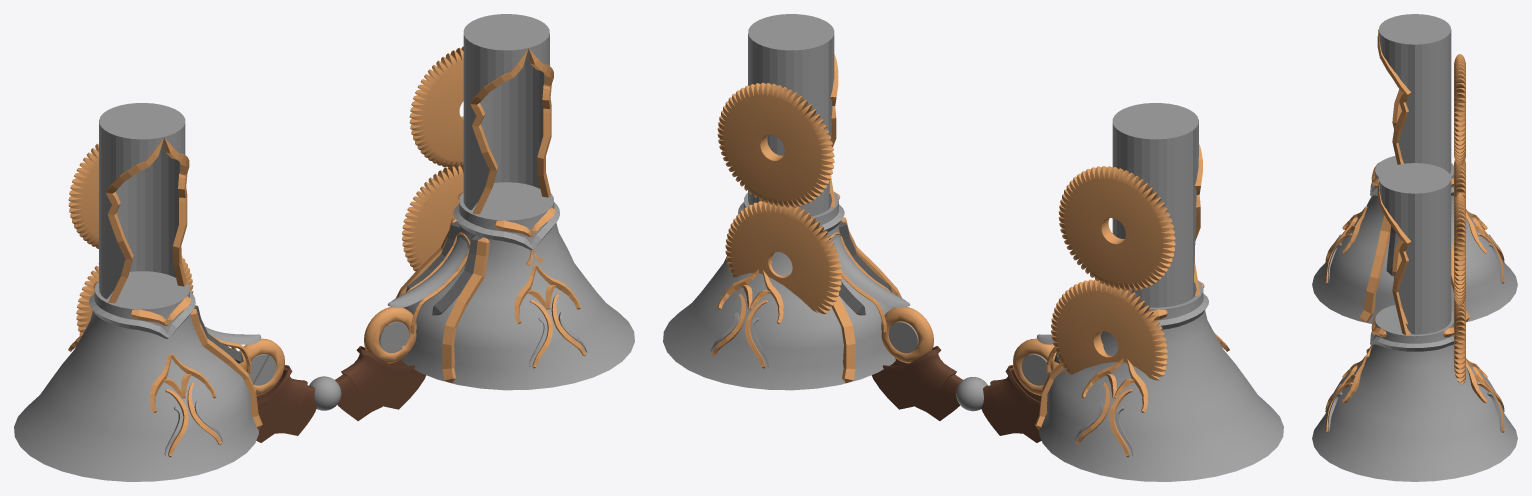
The model's file is cogwork_dancers_environment.glb.
3 views of the same model, side by side, from view 1: azimuth 30°, elevation 25°; view 2: azimuth 150°, elevation 25°; view 3: azimuth 270°, elevation 25° (orthographic). The views are drawn at different scales.
Visible parts, largest first — view 1: Cylinder, Dancer Alcove, Circle, Alcove Frame, Disc Holders, Circle.003, Cylinder.004, Disc, Cylinder.002, Circle.001, Cylinder.003, Ball Holder (+7 smaller); view 2: Cylinder, Circle, Dancer Alcove, Circle.003, Disc Holders, Disc, Cylinder.004, Ball Holder, BézierCurve.005, BézierCurve.002, Circle.001, Bolt (+6 smaller); view 3: Cylinder, Dancer Alcove, Circle, Alcove Frame, Circle.003, BézierCurve.002, Cylinder.004, BézierCurve.005, Cylinder.002, BézierCurve.004, BézierCurve.003, Cylinder.001 (+1 smaller).
Boxes of the visible parts, x1,y1,x2,y2 form: Cylinder: (14,182,634,481); Dancer Alcove: (99,14,549,298); Circle: (68,46,463,248); Alcove Frame: (106,48,553,306); Disc Holders: (256,346,426,442); Circle.003: (76,165,463,336); Cylinder.004: (190,217,489,430); Disc: (239,307,416,395); Cylinder.002: (89,202,559,338); Circle.001: (205,237,468,344); Cylinder.003: (194,221,480,363); Ball Holder: (275,374,382,435); Cylinder: (663,192,1283,481); Circle: (717,82,1175,291); Dancer Alcove: (748,14,1198,307); Circle.003: (725,201,1167,380); Disc Holders: (871,346,1041,442); Disc: (881,307,1058,395); Cylinder.004: (831,217,1102,430); Ball Holder: (915,374,1022,435); BézierCurve.005: (711,293,1132,457); BézierCurve.002: (717,269,1229,412); Circle.001: (831,237,1054,344); Bolt: (888,321,1051,385); Cylinder: (1312,155,1517,481); Dancer Alcove: (1378,14,1451,334); Circle: (1454,54,1465,305); Alcove Frame: (1377,29,1411,335); Circle.003: (1454,160,1465,384); BézierCurve.002: (1342,206,1487,403); Cylinder.004: (1360,215,1469,321); BézierCurve.005: (1325,223,1504,432); Cylinder.002: (1370,182,1453,351); BézierCurve.004: (1328,234,1501,432); BézierCurve.003: (1345,217,1484,384); Cylinder.001: (1371,161,1454,337).
Size of the model in its own units: 22.61 by 12.83 by 8.17.
